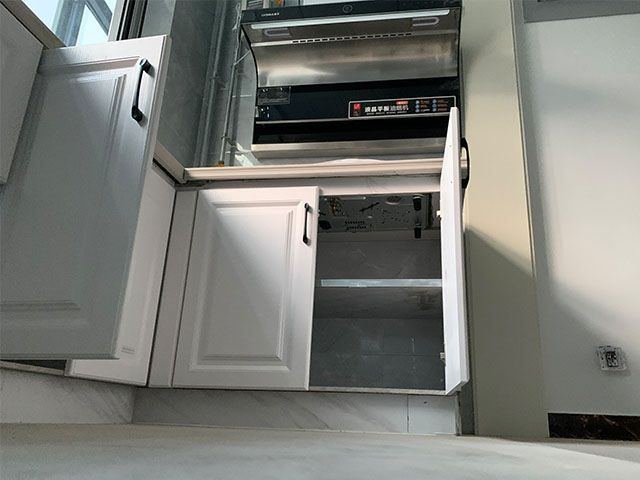cabinet: (164, 158, 471, 435), (1, 1, 171, 429)
